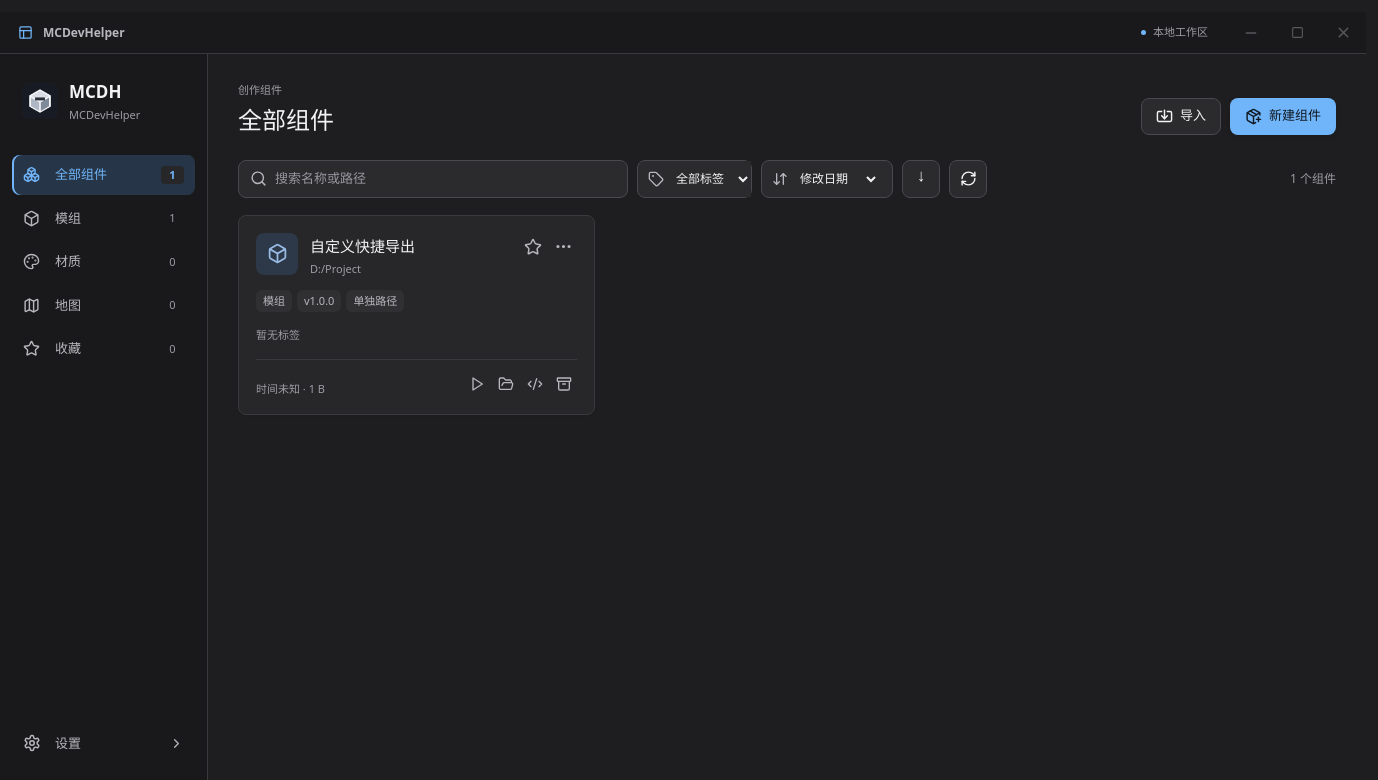
Test: component workspace filters › runs the selected custom exporter from the footer without refreshing the workspace
This screenshot has width=1378, height=780.
What coordinates should you click on to do the following:
click the button named "一键导出 自定义快捷导出"
I would click on:
 (564, 384)
Its box is [550,370,577,397].
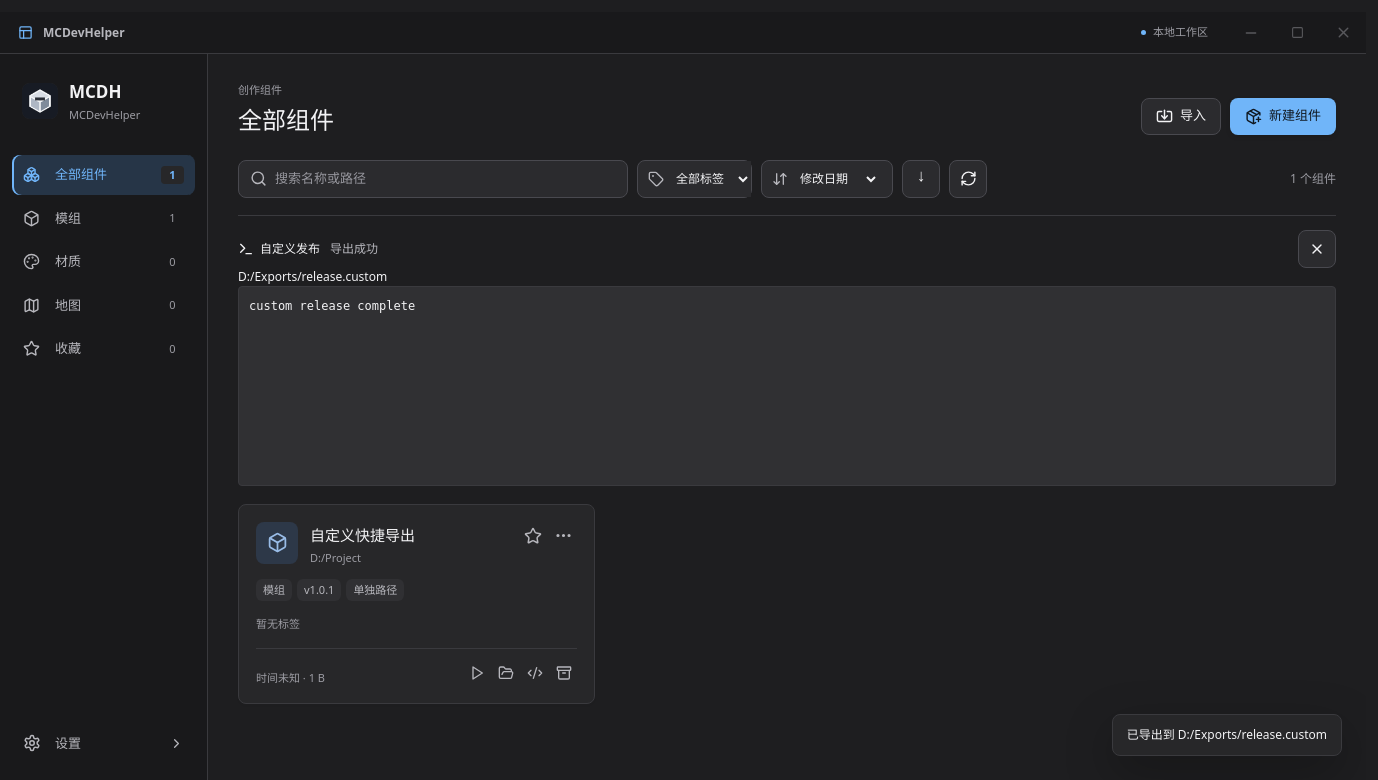
expect the button named "配置 自定义快捷导出" is enabled: met, box [549,522,577,550]
expect the text "custom release complete" is shown: met, box [249,299,415,313]
expect the text "v1.0.1" is shown: met, box [297,579,341,601]
